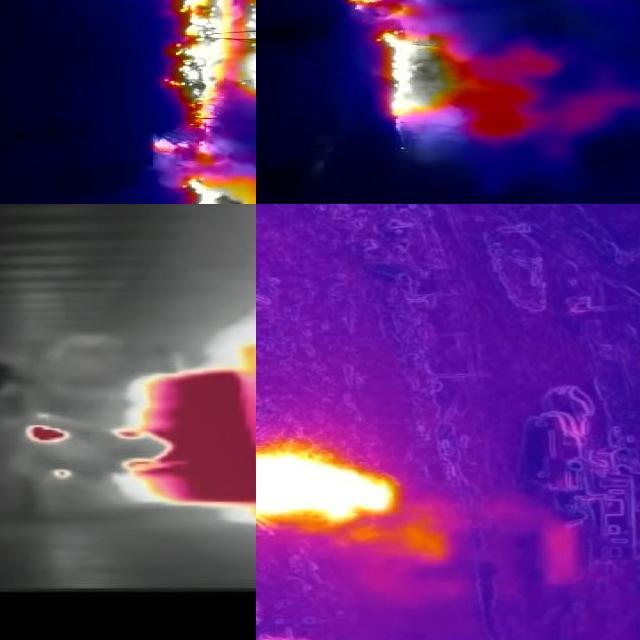fire: (27, 372, 257, 511), (149, 1, 257, 163), (257, 447, 411, 527), (371, 29, 487, 131), (175, 174, 257, 205)
